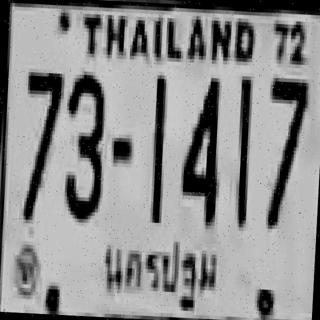N01: (232, 74, 251, 226), (148, 75, 166, 223)
N03: (60, 70, 108, 220)
N04: (177, 73, 222, 222)
N07: (19, 68, 62, 221), (264, 74, 307, 226), (21, 68, 62, 174)
P28: (95, 234, 222, 318)
